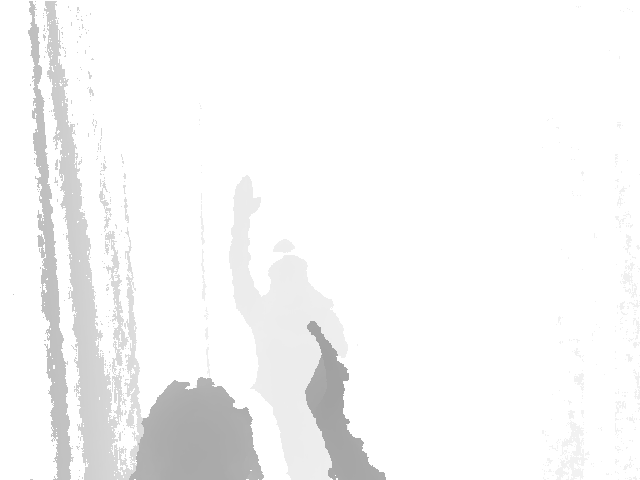hand: (300, 318, 351, 419), (233, 176, 264, 220)
head: (133, 377, 263, 480), (265, 239, 307, 302)
person: (124, 321, 391, 480), (230, 174, 354, 480)
